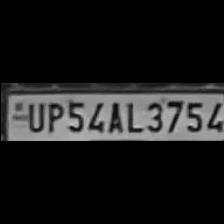3: (142, 98, 164, 132)
4: (84, 98, 106, 132), (203, 98, 221, 132)
5: (62, 97, 84, 133), (182, 99, 202, 134)
7: (163, 99, 181, 134)
A: (104, 99, 124, 134)
L: (122, 99, 140, 134)
P: (42, 99, 62, 133)
U: (22, 100, 44, 132)
